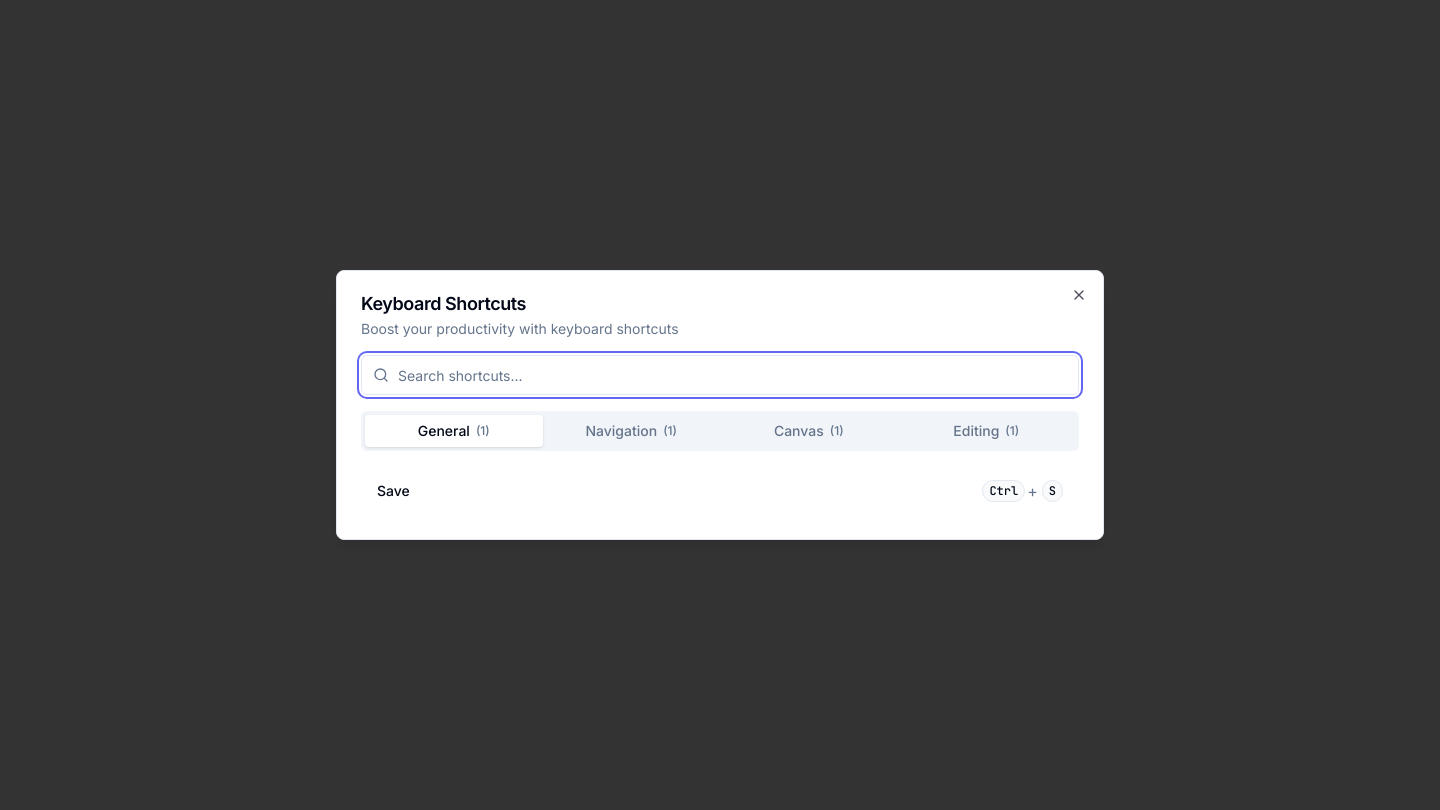
Test case: ShortcutsDialog › should show empty state for search with no results
Step 1. Type "xyz123nonexistent" into the field with placeholder "Search shortcuts..." → [720, 375], box x1=361 y1=355 x2=1079 y2=395
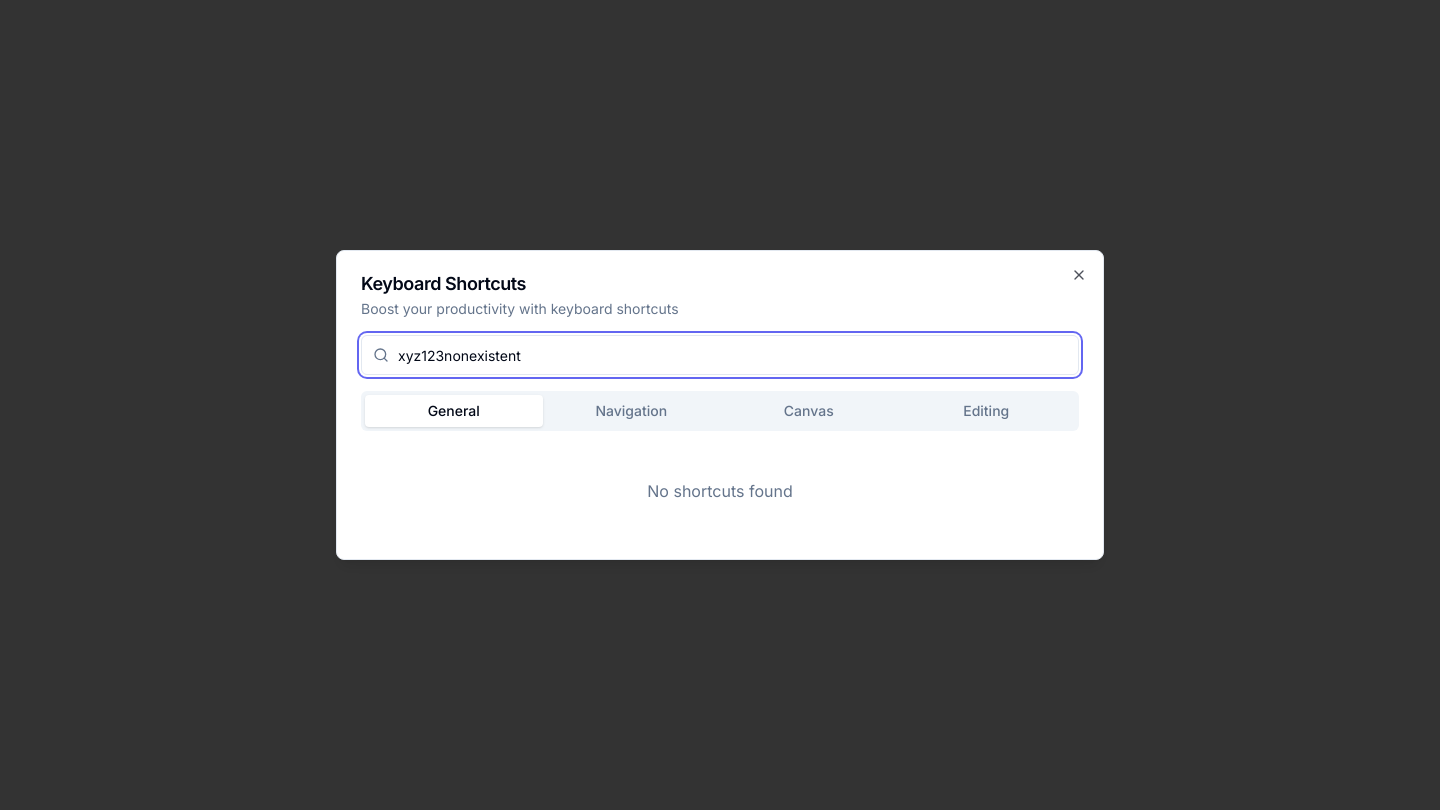
Check: the text "No shortcuts found" is shown, box x1=647 y1=481 x2=793 y2=501
